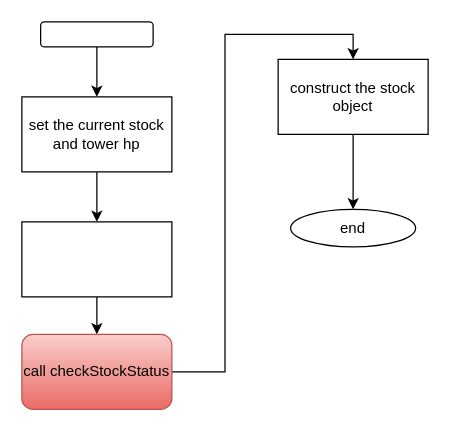
The diagram is 450 pixels wide and 431 high, and some of its shapes have lost their labels. The shapes that lost their labels are listed below. From the top down, each one's centre as x and y in pixels, then its label:
At (x=96, y=34): "start".
At (x=96, y=259): "calculate the stock penalty hp and stock man trigger hp value".
